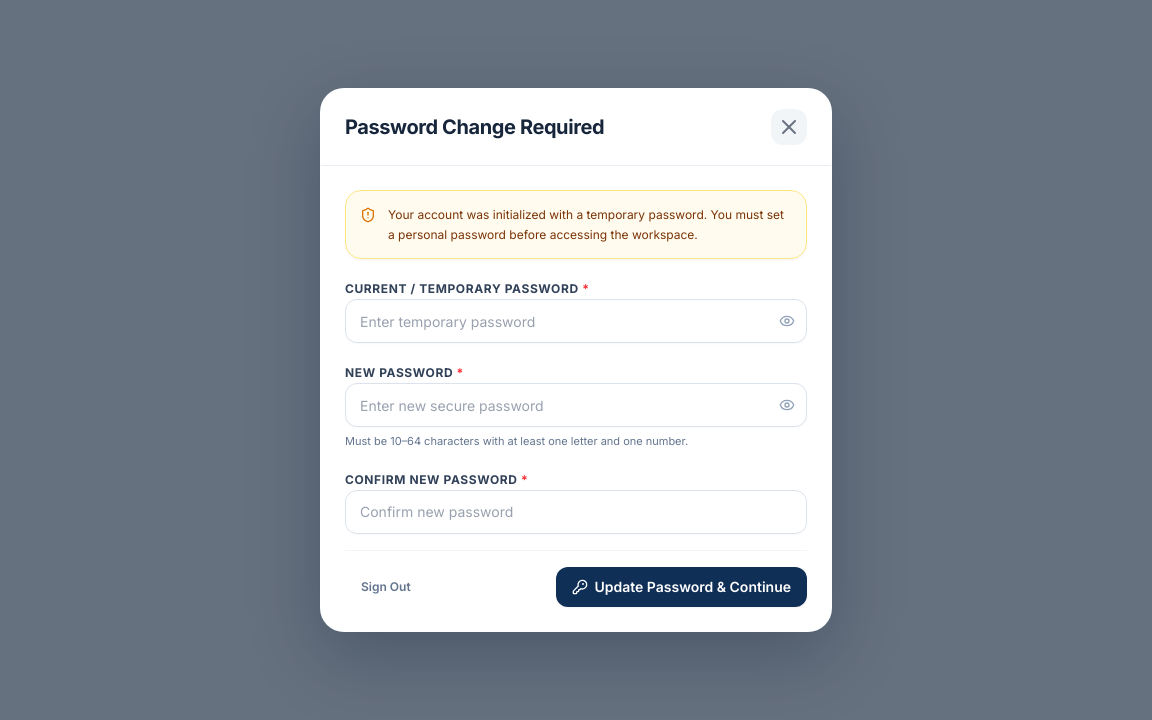
MustChangePasswordModal › validates password matching and length before submitting
// Mismatched passwords
Type "OldTemp123" into the password field labelled "Current / Temporary Password *" at x=576, y=321, box [345,299,807,343]
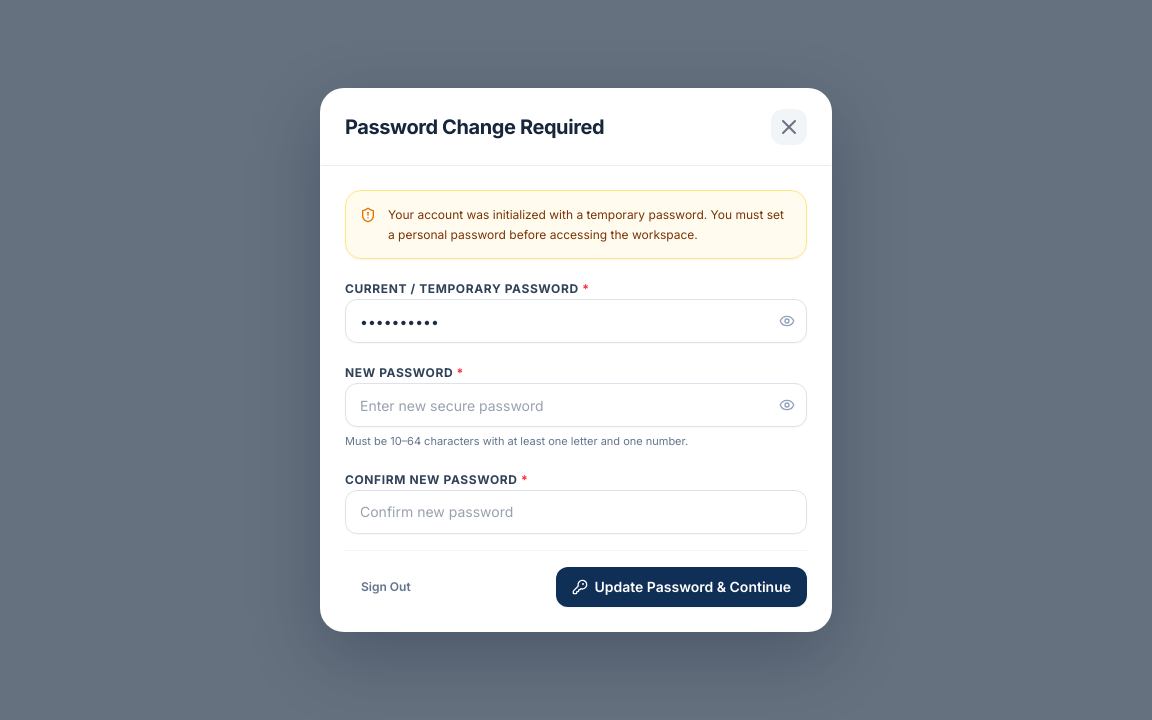
Type "NewSecure123" into the password field labelled "New Password *" at x=576, y=405, box [345,383,807,427]
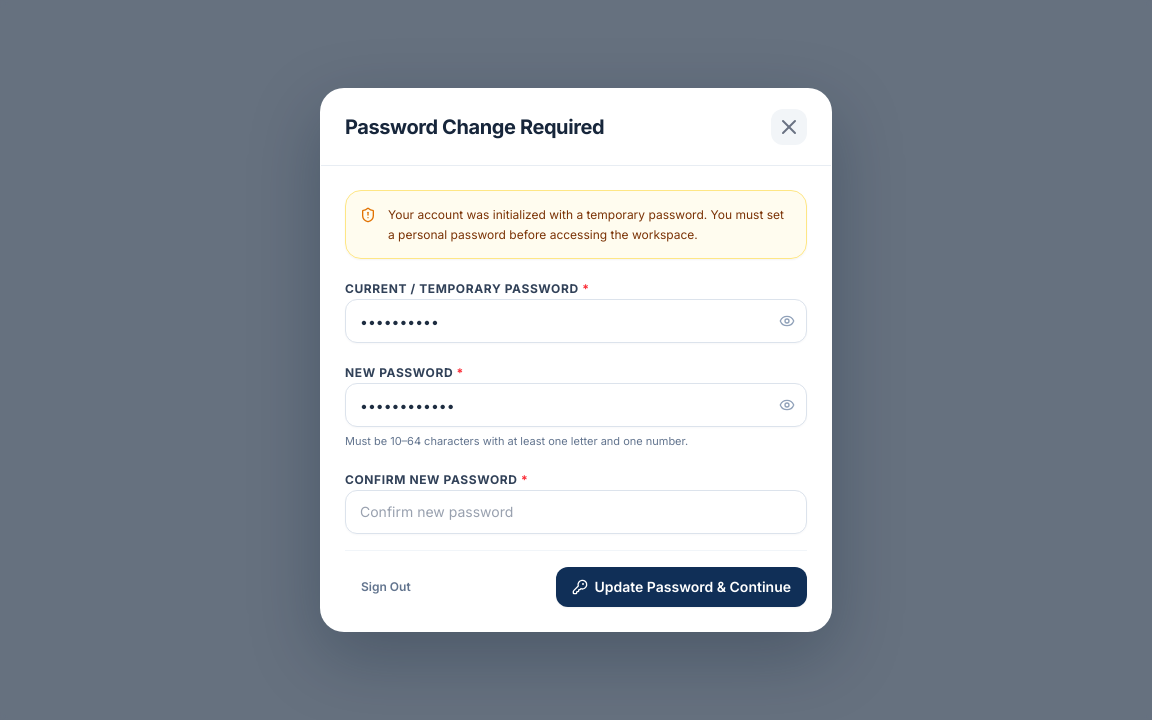
Type "Different123" into the password field labelled "Confirm New Password *" at x=576, y=512, box [345,490,807,534]
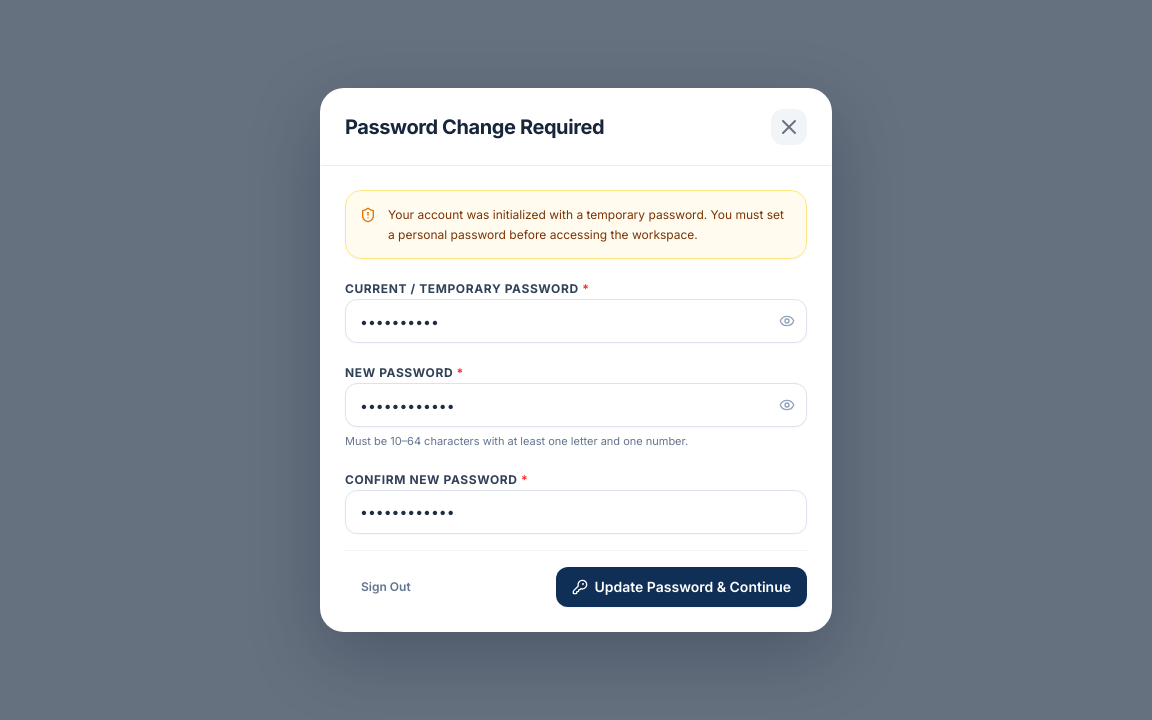
Click the button "Update Password & Continue" at x=682, y=587, box [556,567,807,607]
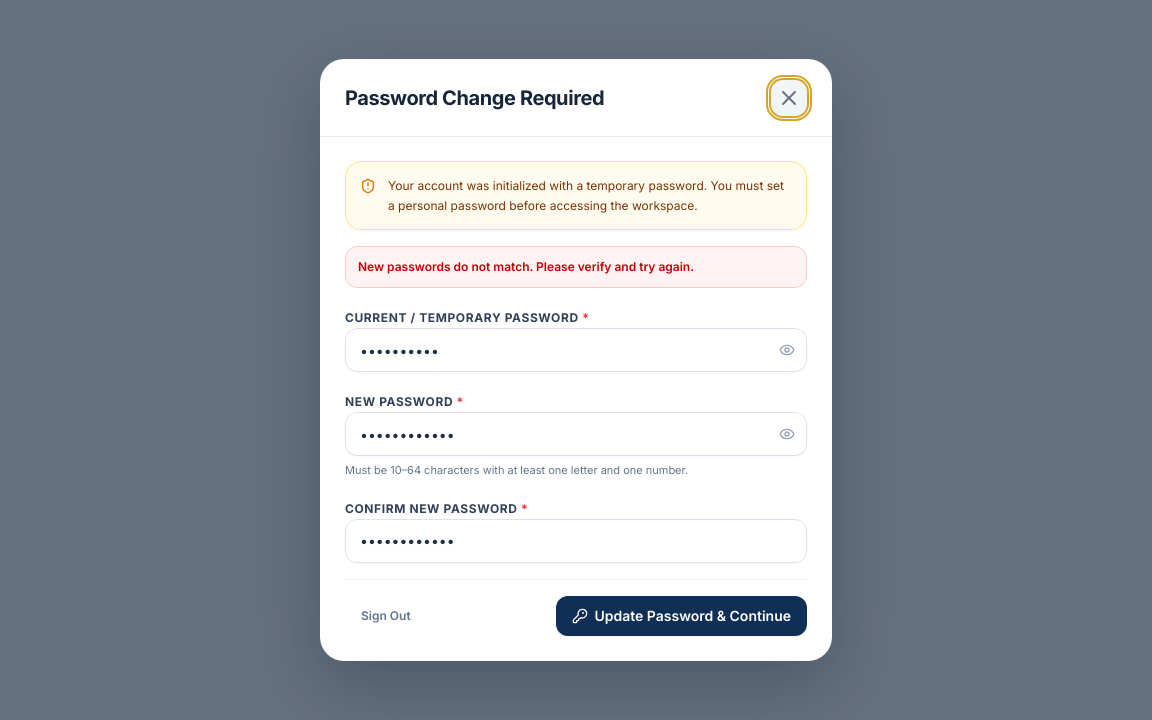
Now the text "New passwords do not match. Please verify and try again." is shown, box [345,246,807,288]
